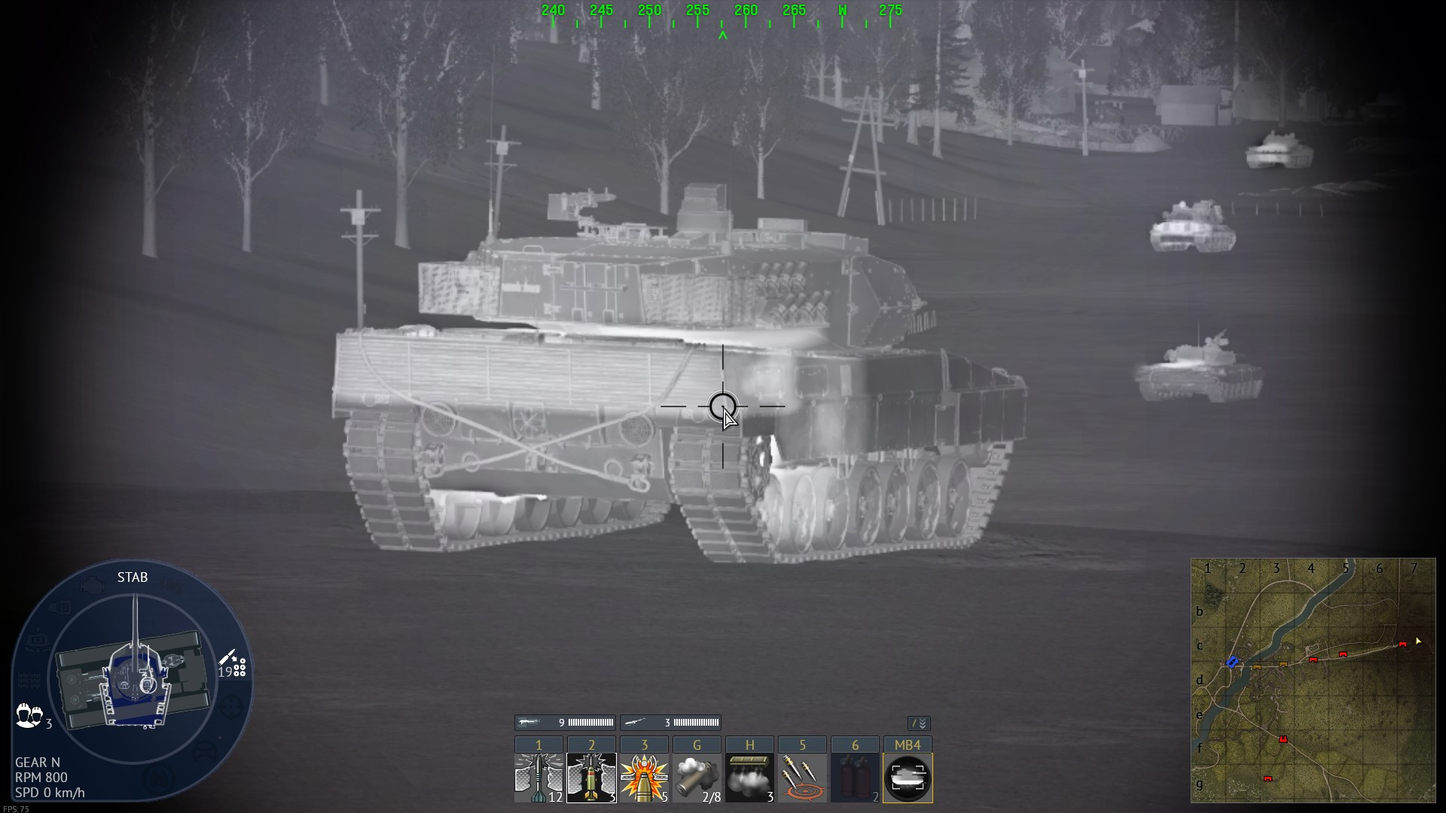leopard2: (331, 183, 1028, 564)
t72b: (1134, 327, 1264, 404)
